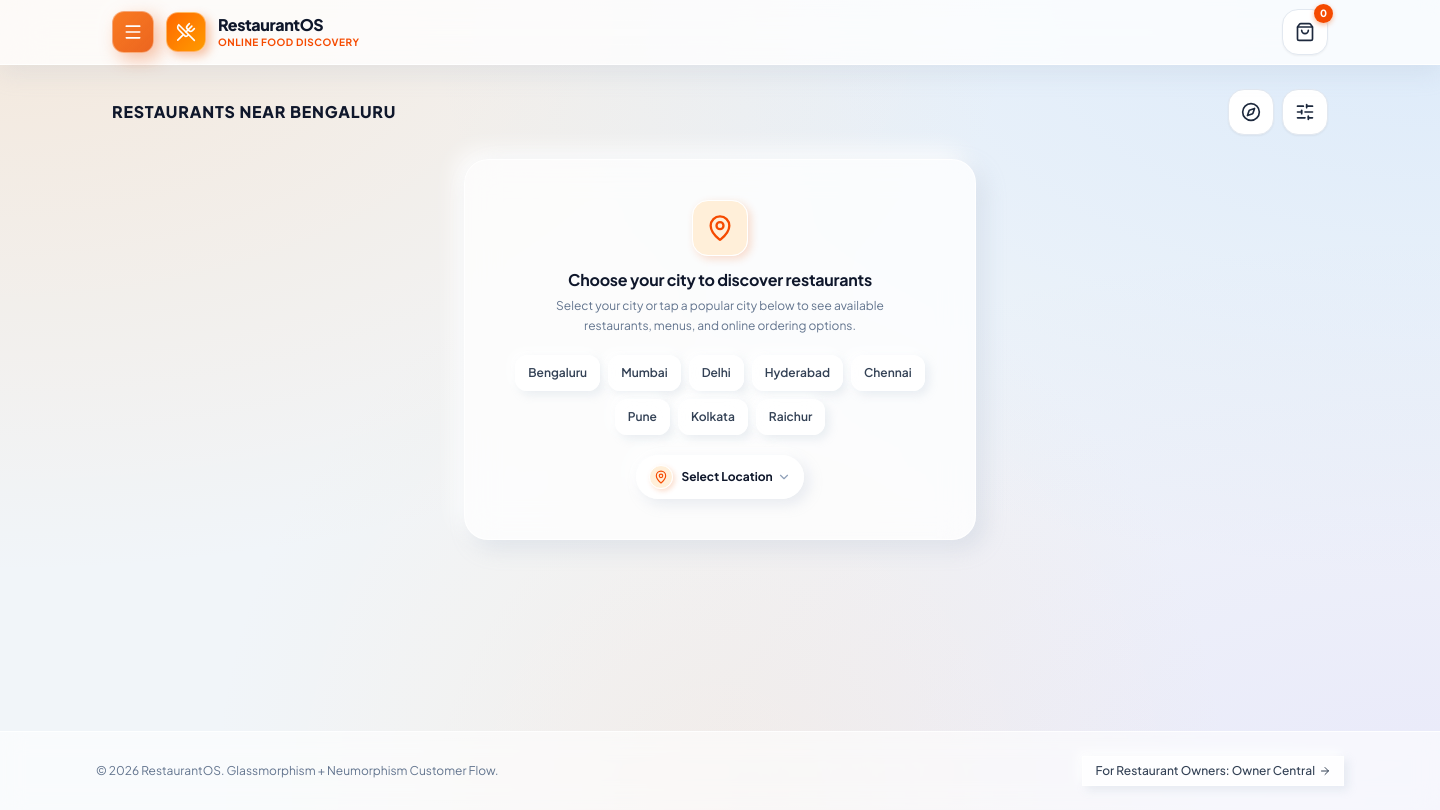
Customer UI Fix - Header, Location Modal & Left Side Drawer › opens Location Selector Modal when location icon button is clicked
What coordinates should you click on to do the following:
click the button with id "customer-location-trigger-btn"
I would click on:
 (1251, 112)
Its box is x1=1228 y1=89 x2=1274 y2=135.
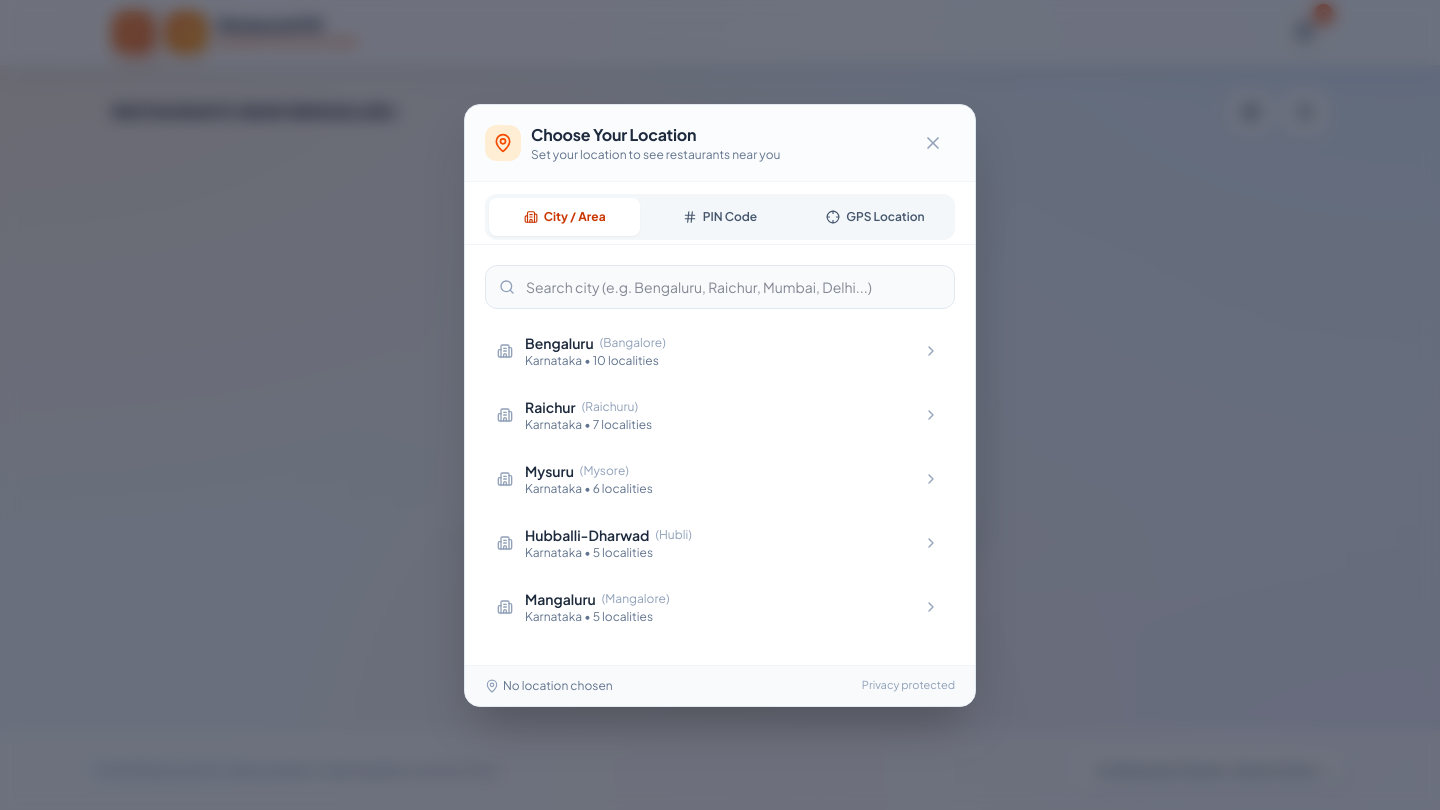
Check: the dialog with id "customer-location-selector-modal" is shown
Check: the button with id "close-location-modal-btn" is shown
What coordinates should you click on to do the following:
click the button with id "close-location-modal-btn"
I would click on:
 (933, 142)
Its box is x1=911 y1=120 x2=955 y2=164.
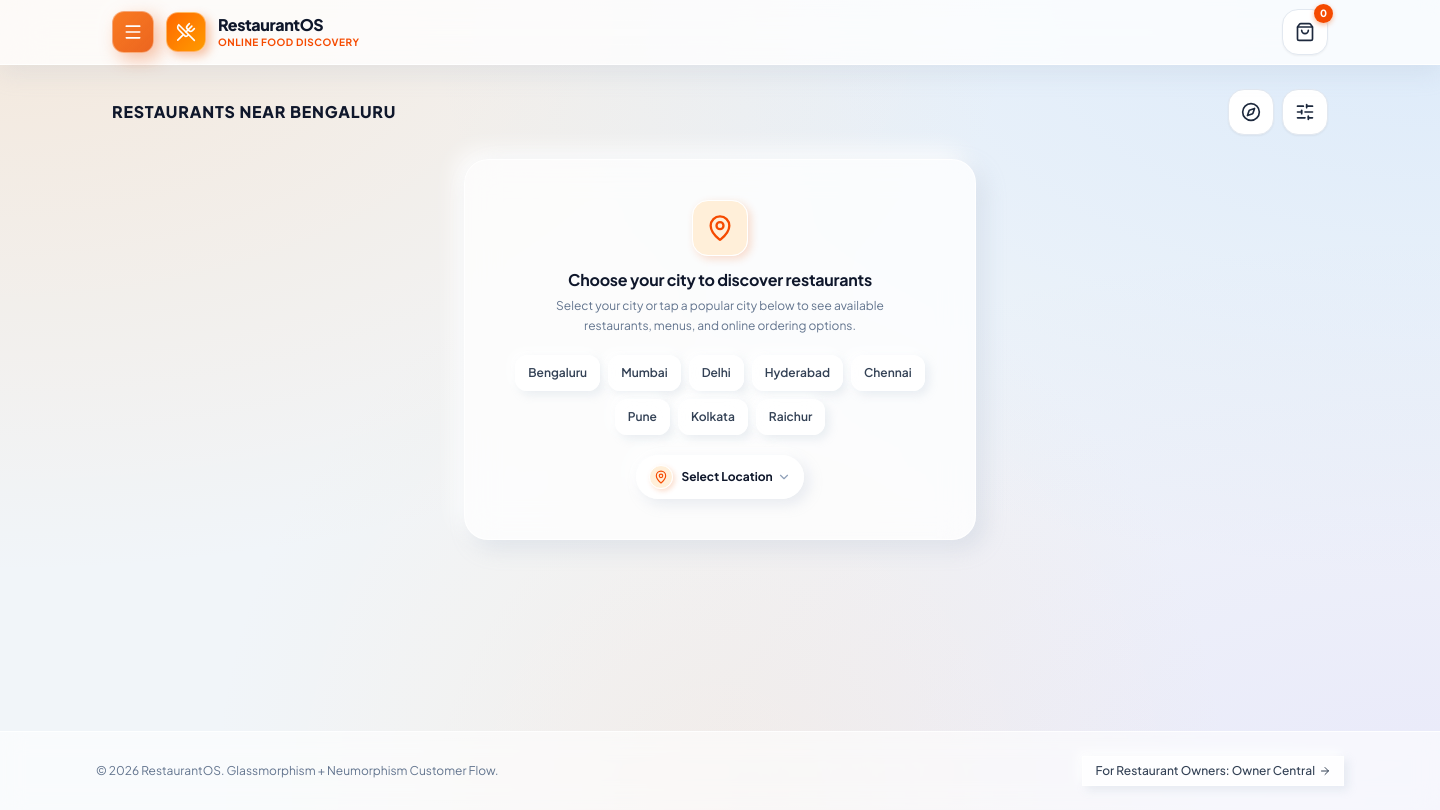
Check: the dialog with id "customer-location-selector-modal" is gone
